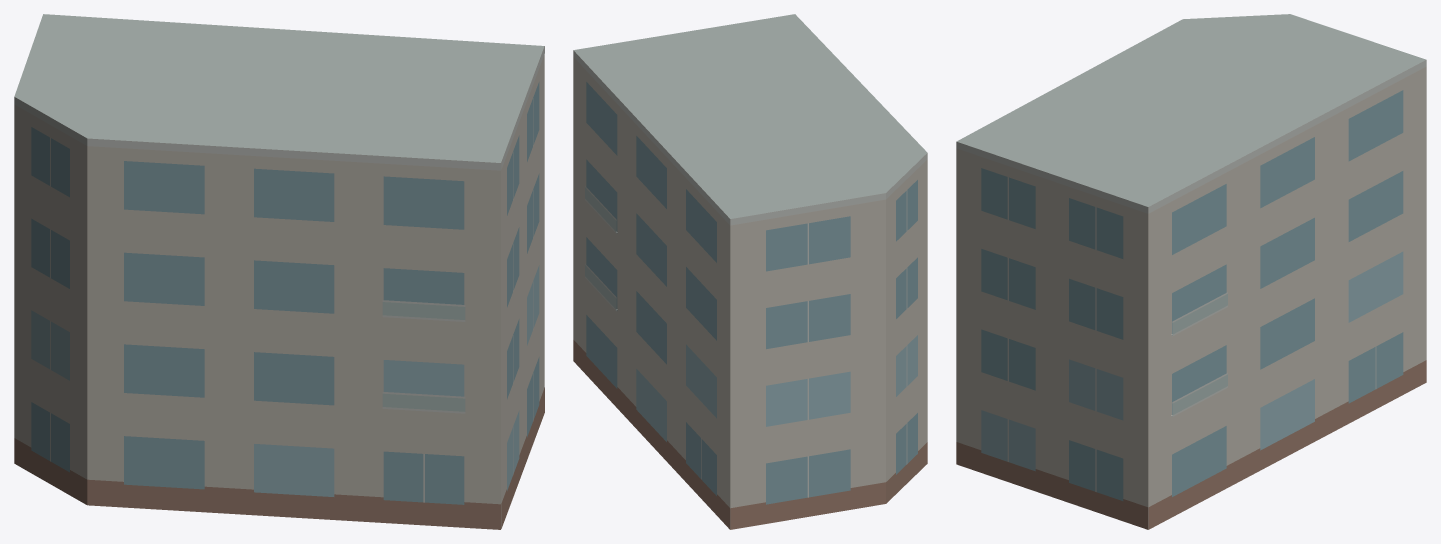
File: survey-upis-32809987.glb
3 renders of one model, left to right at view 1: azimuth 30°, elevation 25°; view 2: azimuth 150°, elevation 25°; view 3: azimuth 270°, elevation 25°, orthographic. The views are drawn at different scales.
Parts seen in each view (by area): view 1: survey-upis-32809987.tmp; view 2: survey-upis-32809987.tmp; view 3: survey-upis-32809987.tmp.
Boxes of the visible parts, <box> form: survey-upis-32809987.tmp: <box>14,14,544,529</box>; survey-upis-32809987.tmp: <box>573,14,927,529</box>; survey-upis-32809987.tmp: <box>956,14,1426,529</box>.
Size of the model in its own units: 15.02 by 11.7 by 15.46.
